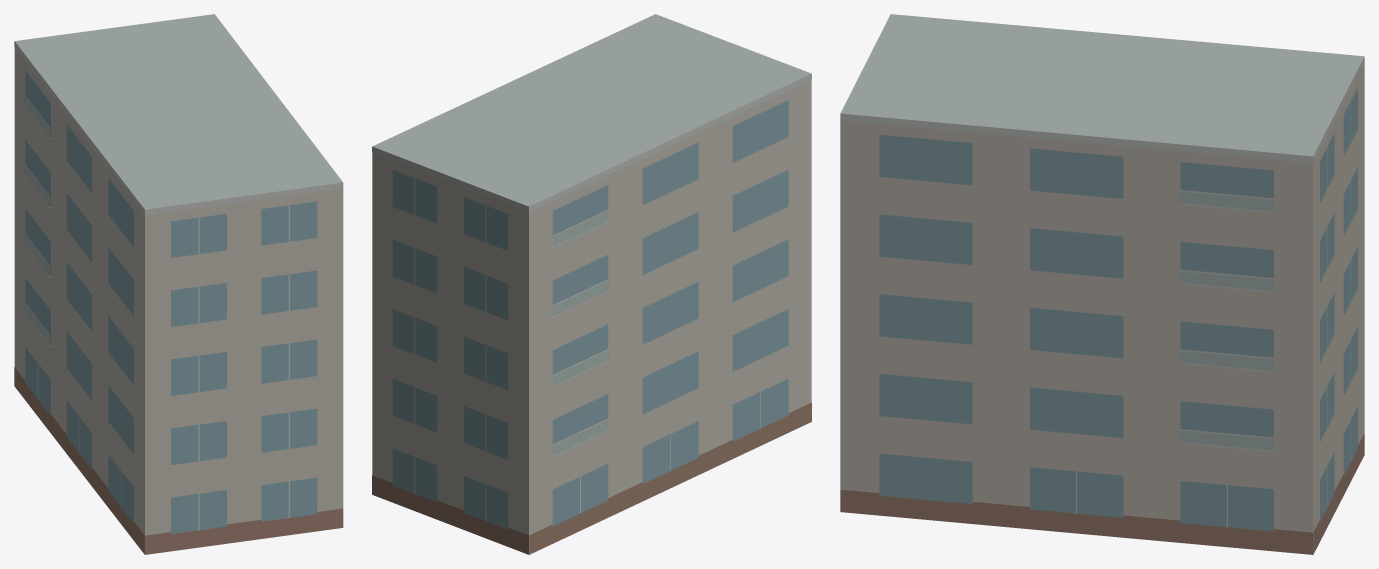
File: survey-upis-32511214.glb
The picture shows the model from 3 angles, left to right: view 1: azimuth 30°, elevation 25°; view 2: azimuth 150°, elevation 25°; view 3: azimuth 270°, elevation 25°; orthographic projection. The views are drawn at different scales.
Parts seen in each view (by area): view 1: survey-upis-32511214.tmp; view 2: survey-upis-32511214.tmp; view 3: survey-upis-32511214.tmp.
Part boxes in pixels (box(x1,y1,x2,y2)): survey-upis-32511214.tmp: box(14, 14, 343, 554); survey-upis-32511214.tmp: box(372, 14, 811, 554); survey-upis-32511214.tmp: box(840, 14, 1364, 554).
Size of the model in its own units: 11.04 by 14.4 by 17.18.
